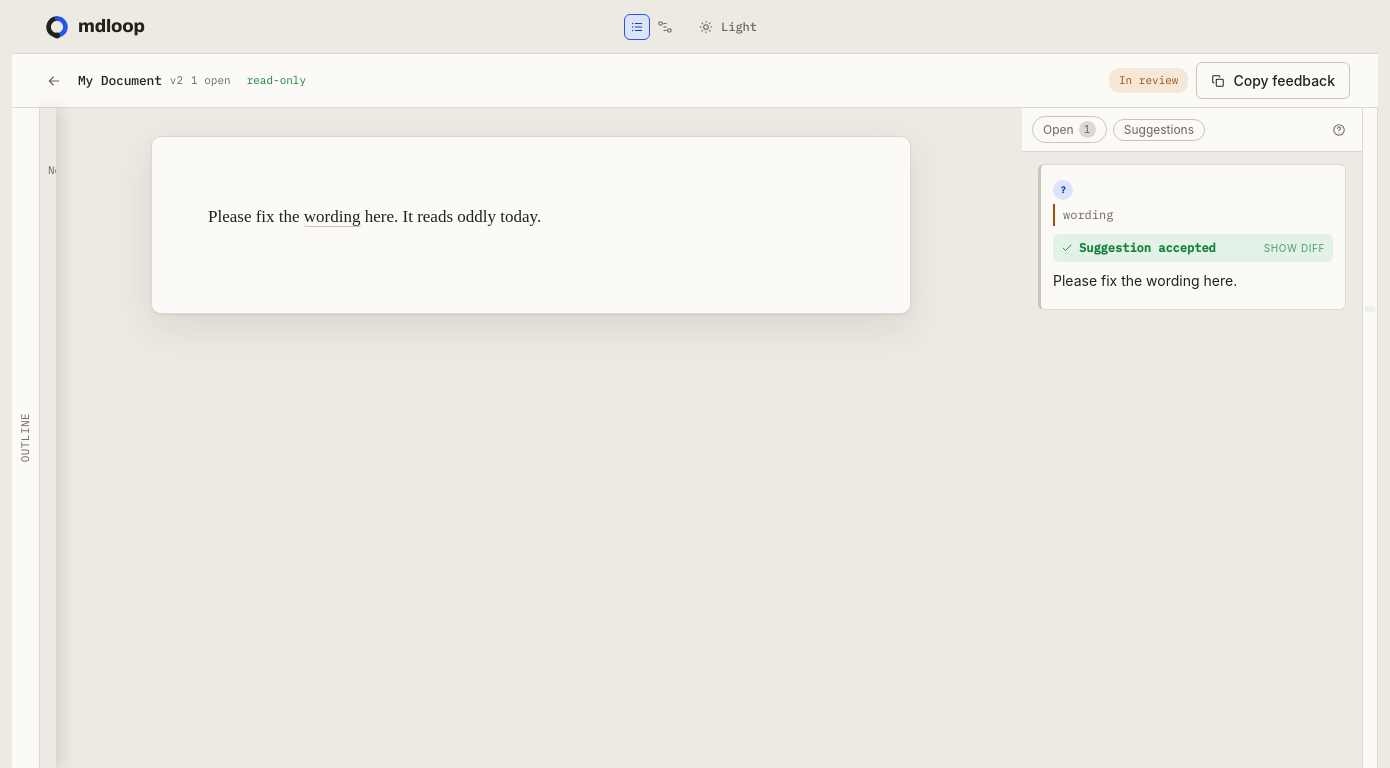
Viewer — accepted-pending suggestion overlay (ADR 0007 decision 6) › clicking the mark expands an inline strike+insert overlay in the body, and clicking again collapses it
Expected: the text "Please fix the wording here. It reads oddly today." is shown, [208, 206, 541, 227]
Click the text "wording" next to "here. It reads oddly today." at (332,216), box [304, 206, 360, 227]
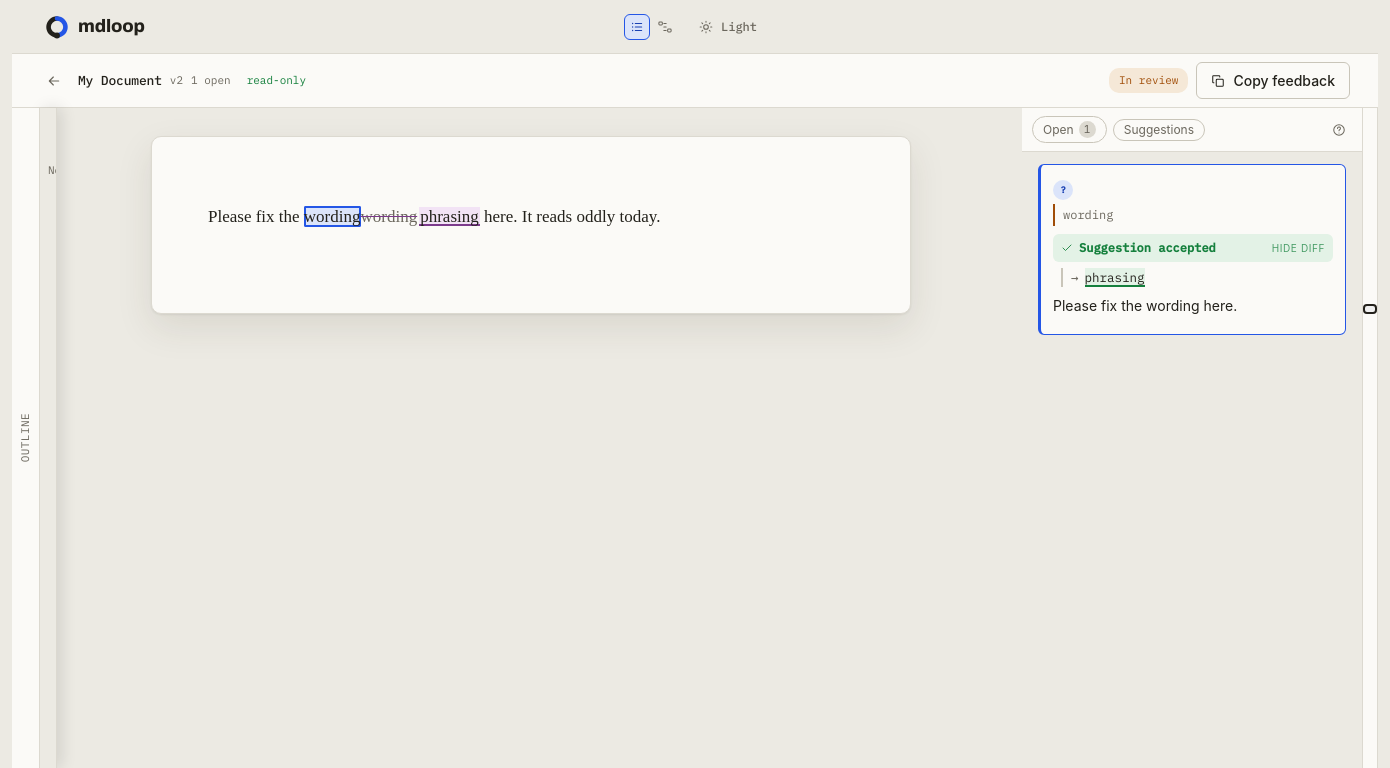
Expected: the element with class "anchor-suggestion-overlay" is shown, [360, 207, 480, 226]
Expected: the 2nd text "wording" is shown, [360, 207, 417, 226]
Expected: the text "phrasing" next to "here. It reads oddly today." is shown, [420, 207, 479, 226]
Clicking the (now re-rendered) mark again collapses it.
Click the 1st text "wording" at (332,216), box [304, 206, 360, 227]
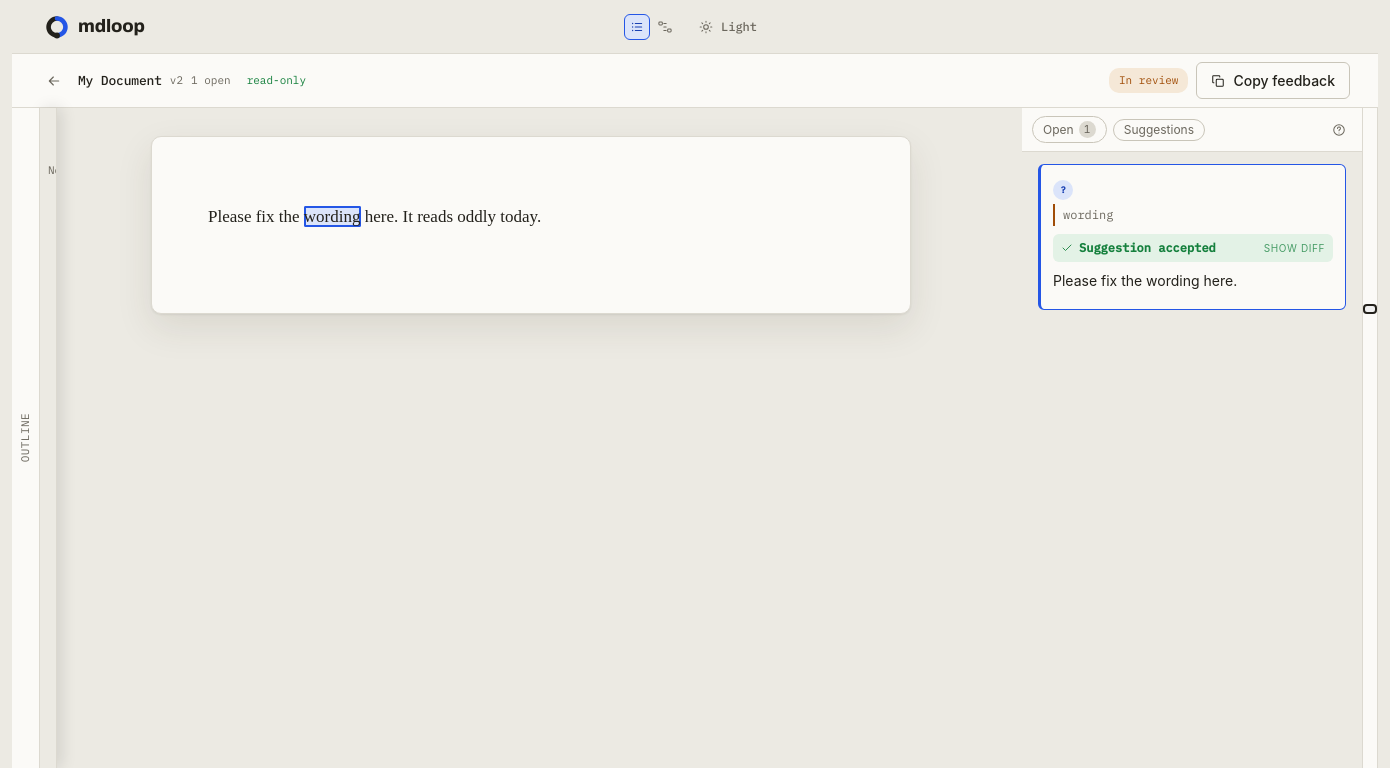
Expected: the element with class "anchor-suggestion-overlay" is gone
